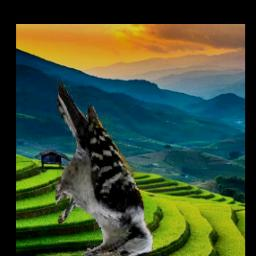Woodpecker: (56, 79, 154, 256)
